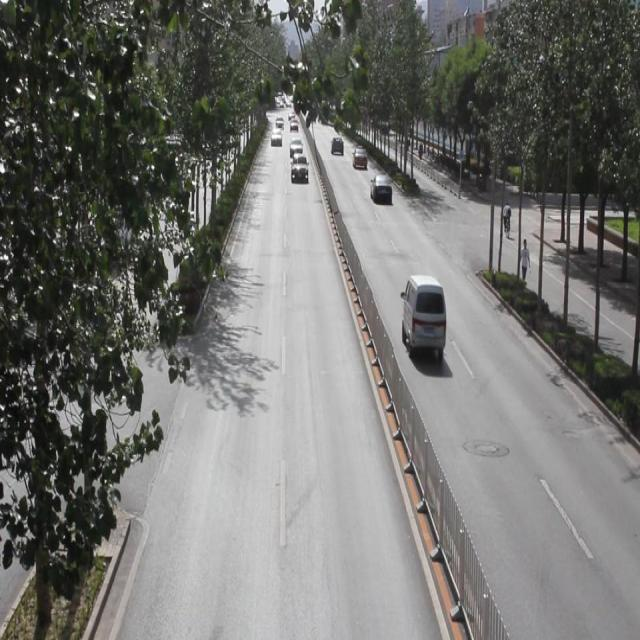car: (369, 172, 392, 205), (290, 153, 308, 182), (352, 145, 367, 169), (288, 135, 302, 159), (330, 133, 343, 157), (270, 127, 282, 147)
truck: (402, 275, 447, 357)
